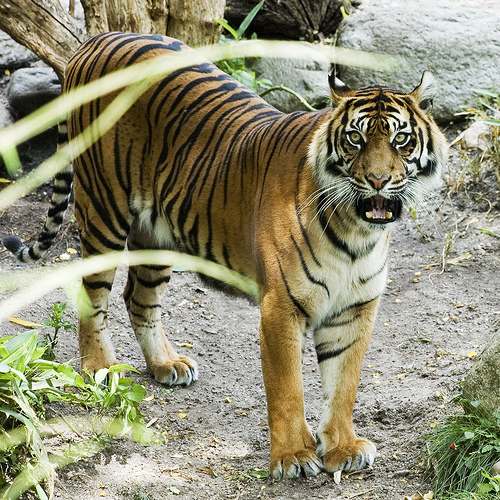Tigre: (56, 12, 457, 464)
